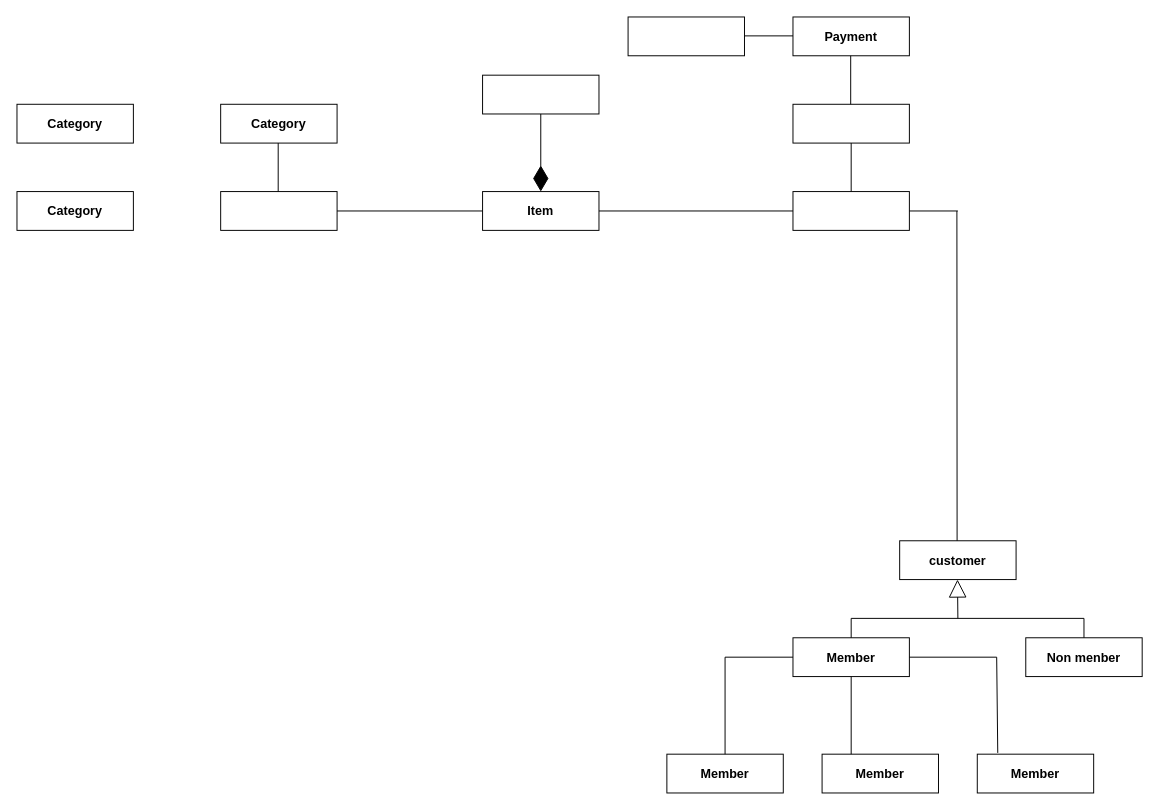
This 1159x810 diagram has some shape labels left out. Here are the shapes that lost their labels. From the top down, the centre of each, then its label:
At (685,36): "Bill".
At (540,94): "Item Detail".
At (850,123): "Check out".
At (278,210): "Item model".
At (850,210): "Oder".
